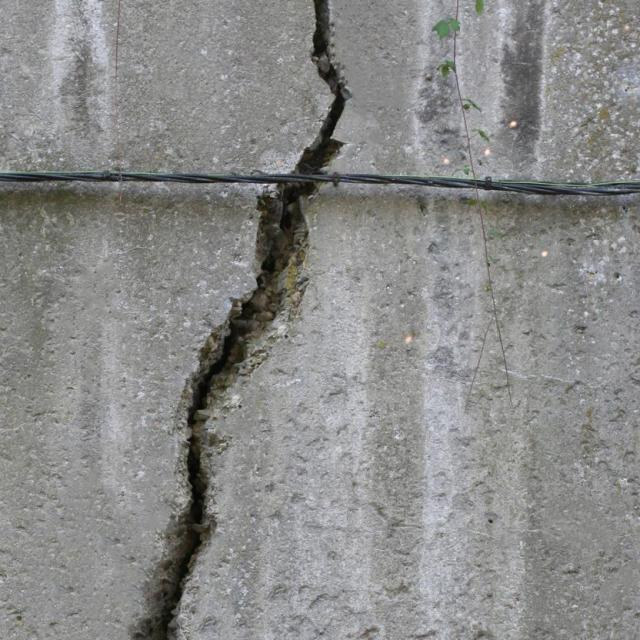diagonal crack: (125, 0, 353, 639)
